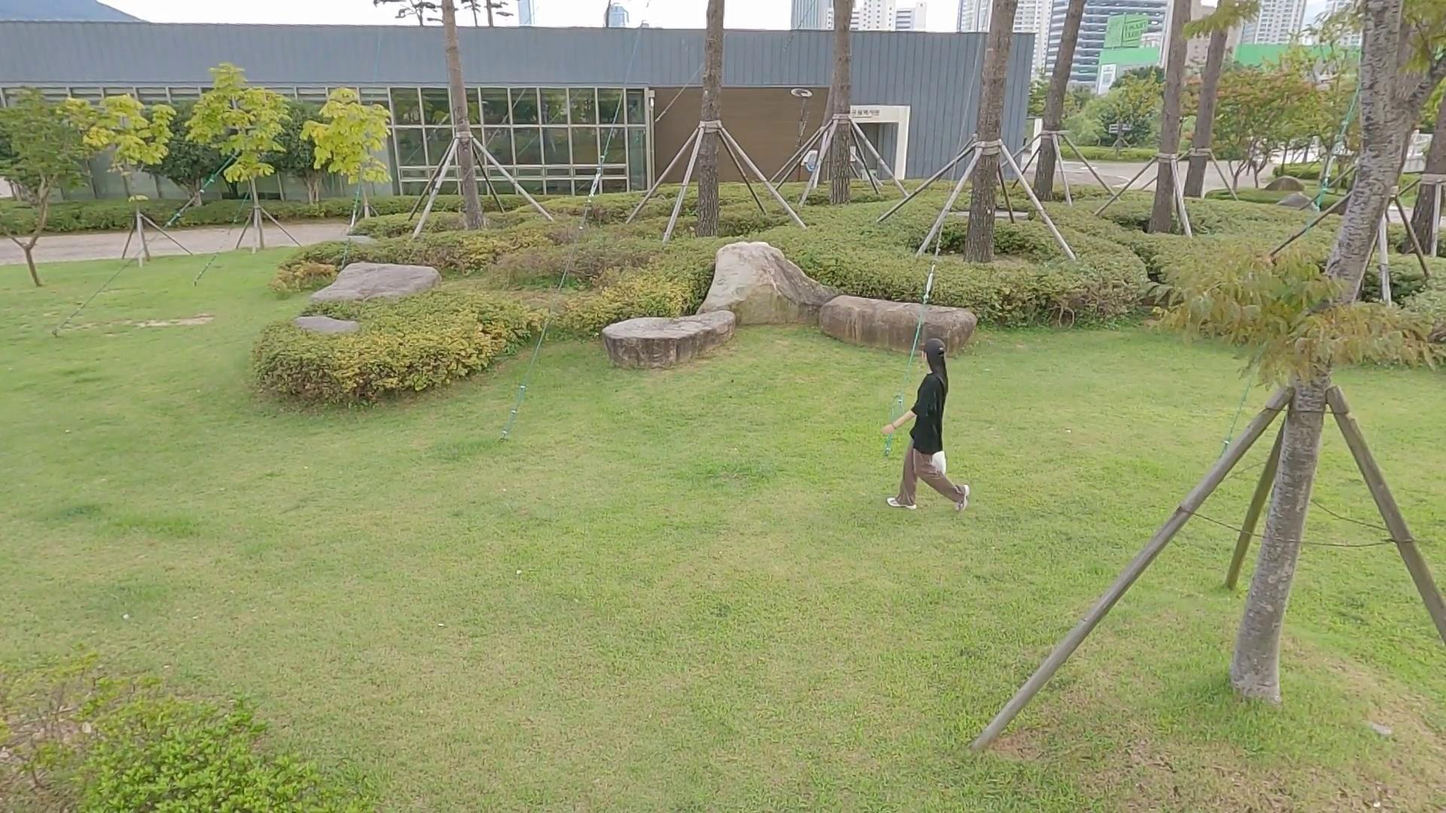person: (881, 339, 977, 520)
trash: (926, 449, 951, 476)
